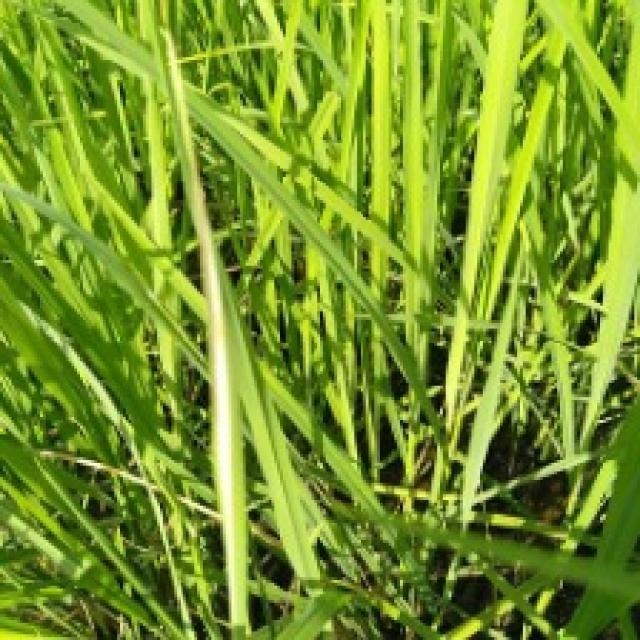Rice___Bacterial_Leaf_Blight: (148, 26, 341, 637)
